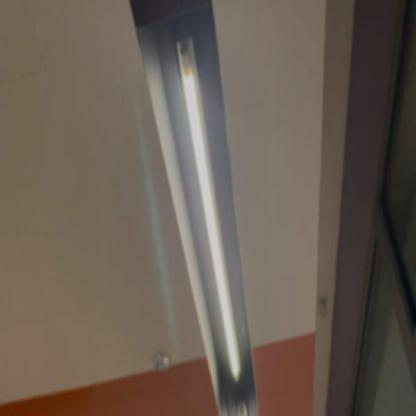light_on: (168, 24, 246, 392)
